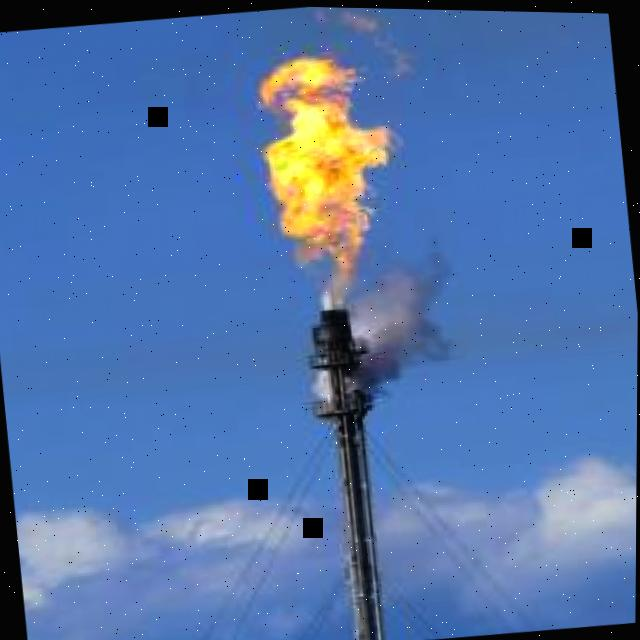fire: (263, 56, 401, 304)
smoke: (342, 237, 452, 393), (311, 366, 330, 395)
